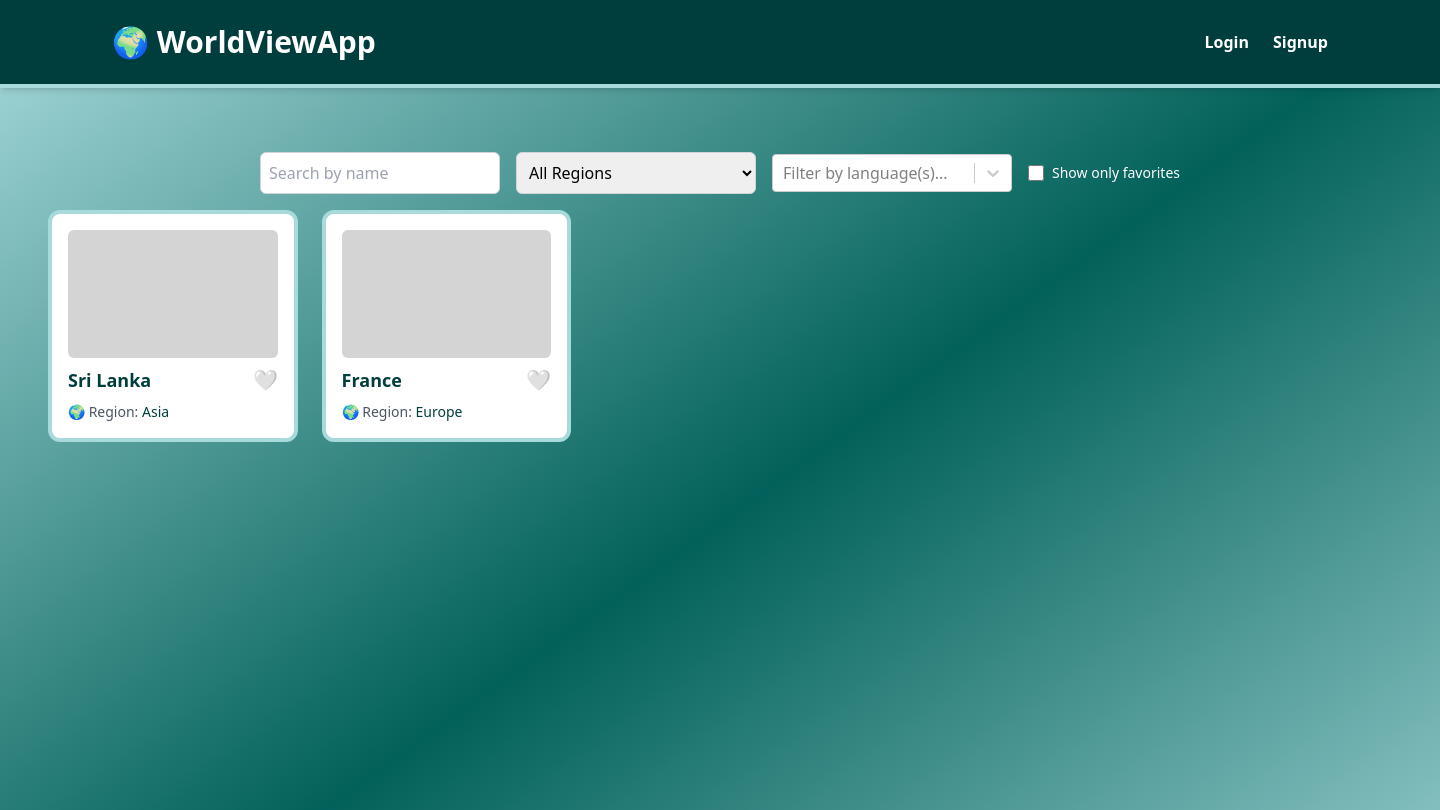
Search feature › filters countries by name when user types in the search input
This screenshot has width=1440, height=810.
Expected: the text "Sri Lanka" is shown, [68,366,151,394]
Expected: the text "France" is shown, [342,366,402,394]
# Type "Sri" into the search bar
In the field with placeholder "Search by name": (380, 173) [260,152,500,194], type "Sri"
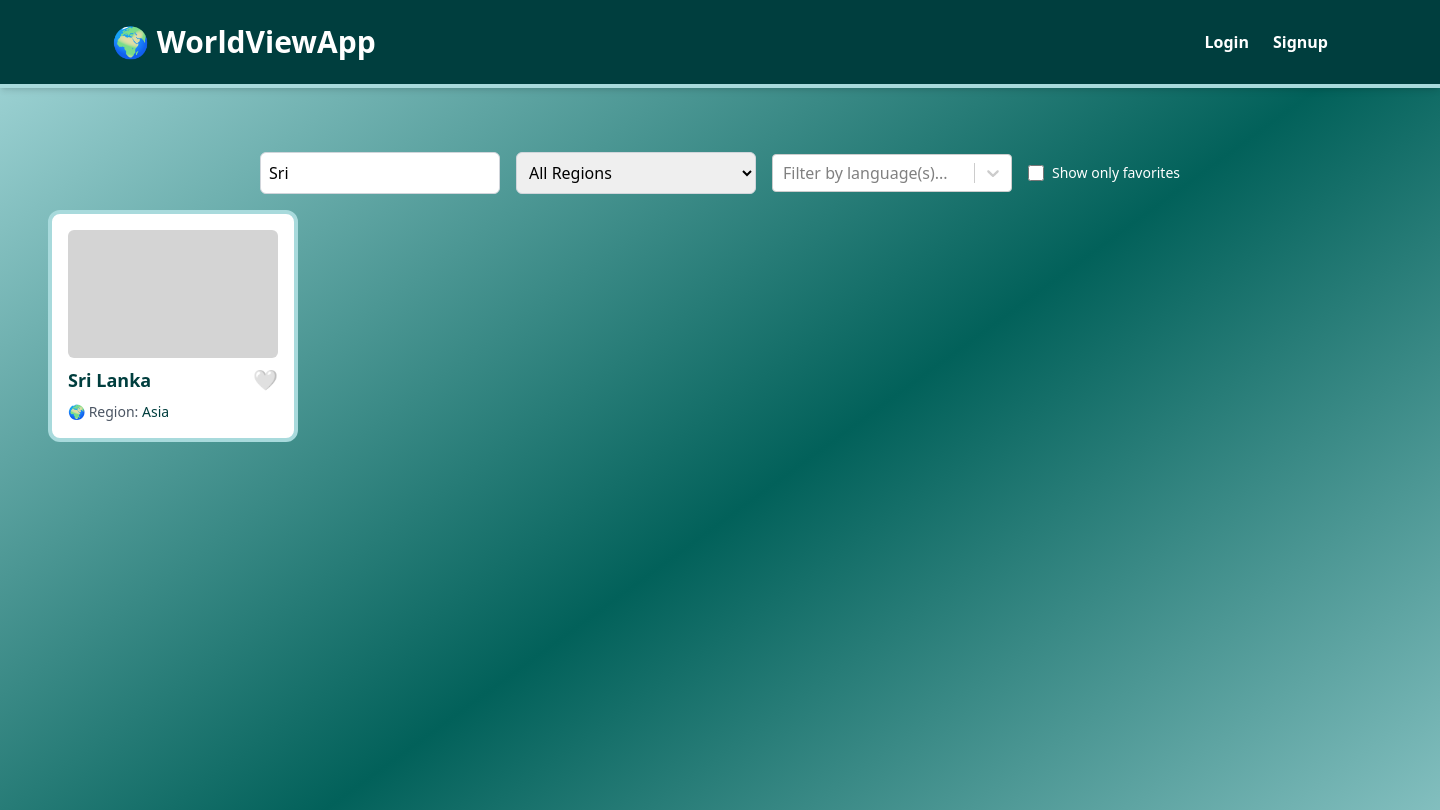
Expected: the text "Sri Lanka" is shown, [68,366,151,394]
Expected: the link "France" is gone
